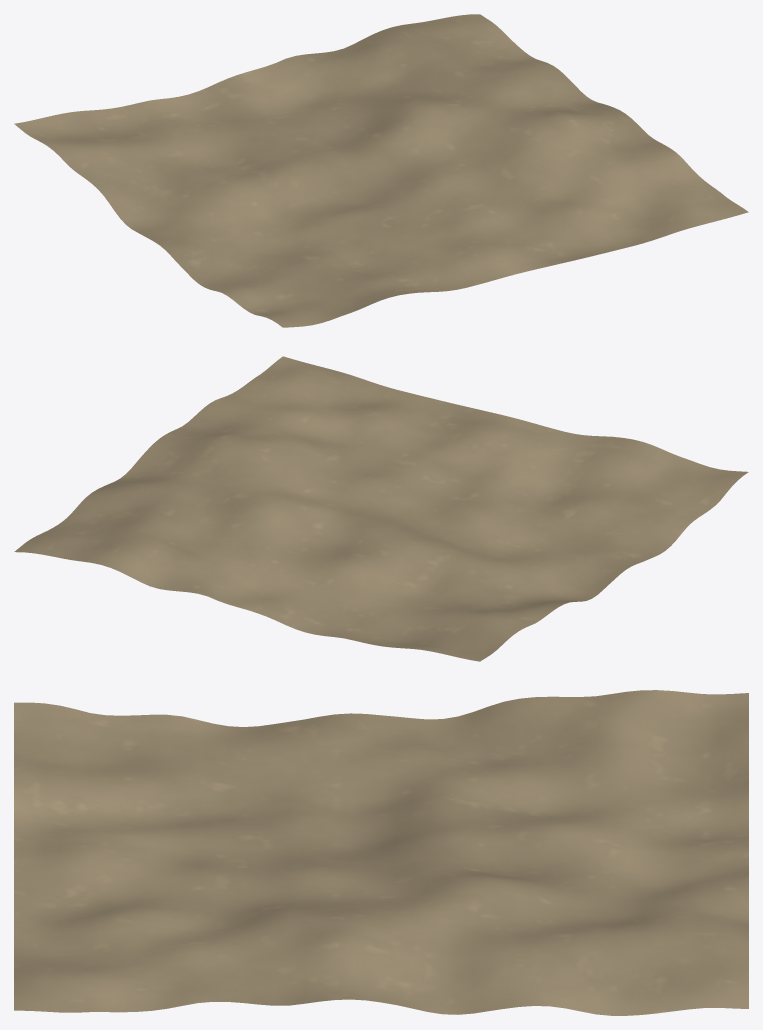
Rendered from sand_floor.fbx.
3 renders of one model, top to bottom at view 1: azimuth 30°, elevation 25°; view 2: azimuth 150°, elevation 25°; view 3: azimuth 270°, elevation 25°, orthographic. The views are drawn at different scales.
Visible parts, largest first — view 1: sand_floor; view 2: sand_floor; view 3: sand_floor.
Part boxes in pixels (x1,y1,x2,y2): sand_floor: (14,14,748,327); sand_floor: (14,356,748,661); sand_floor: (14,690,748,1015).
Bounding box in the file's own units: 2000 × 165 × 2000.
